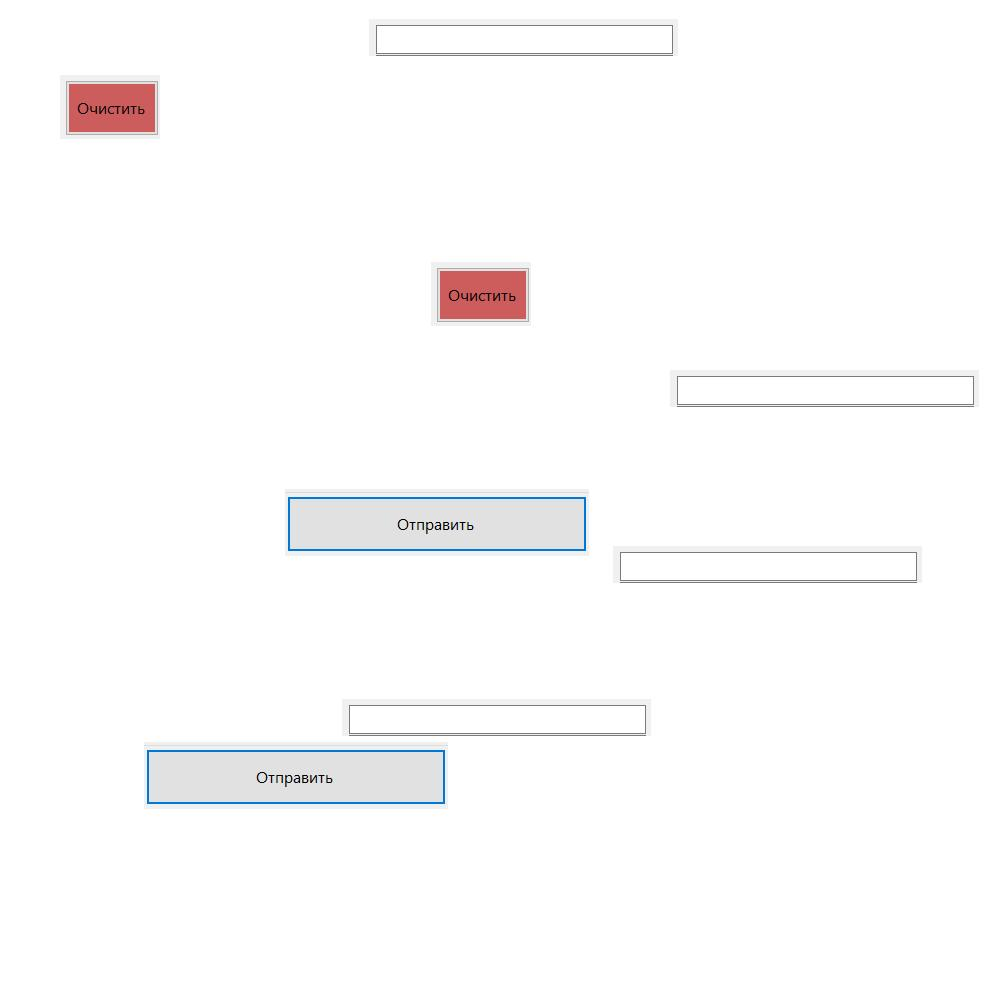Button: (285, 489, 589, 556), (144, 742, 448, 809), (431, 262, 531, 326), (60, 75, 160, 139)
EditText-: (342, 699, 651, 736), (613, 546, 922, 583), (369, 19, 678, 56), (670, 370, 979, 407)
